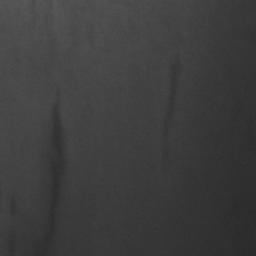Inclusion: (50, 108, 68, 210), (169, 55, 183, 114)
